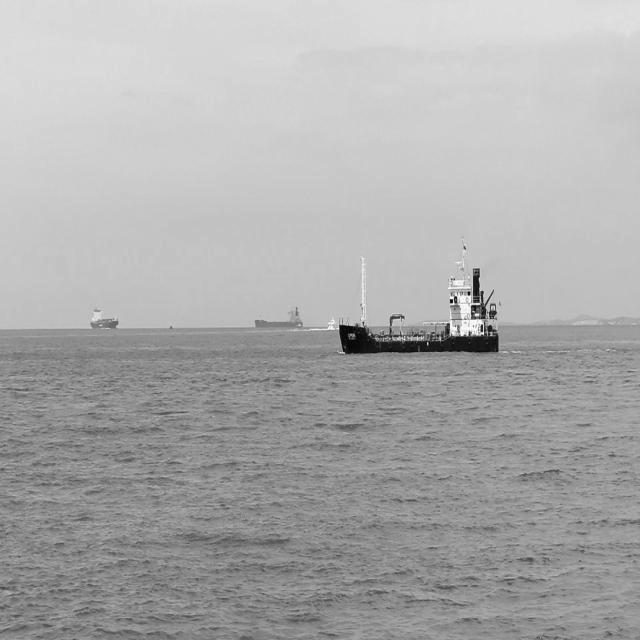ship: (336, 234, 502, 358), (254, 299, 305, 333), (89, 301, 120, 329), (325, 312, 340, 332)
